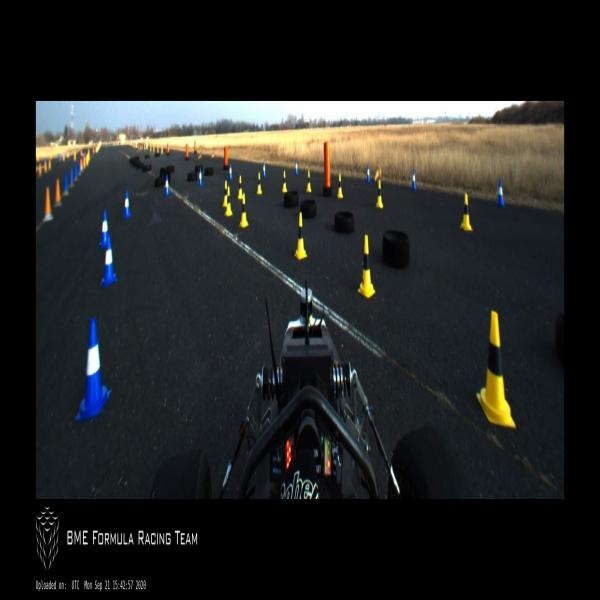blue_cone: (76, 316, 111, 420), (101, 236, 117, 286), (99, 210, 108, 244), (123, 190, 131, 218), (497, 180, 505, 206), (164, 174, 170, 195), (411, 168, 417, 189), (365, 163, 371, 182), (198, 167, 202, 186), (228, 164, 232, 180), (294, 159, 298, 174), (262, 162, 266, 176)
unknown_cone: (44, 188, 53, 222), (55, 178, 62, 206), (64, 171, 69, 195), (374, 165, 381, 180), (70, 167, 74, 187), (77, 160, 81, 176), (74, 164, 77, 181)
yellow_cone: (477, 310, 516, 430), (357, 234, 376, 300), (294, 210, 307, 260), (460, 193, 473, 230), (240, 195, 248, 228), (225, 188, 233, 216), (376, 179, 383, 208), (237, 175, 244, 199), (337, 175, 343, 199), (306, 170, 312, 193), (256, 172, 262, 194), (282, 170, 288, 192), (223, 181, 227, 206)
